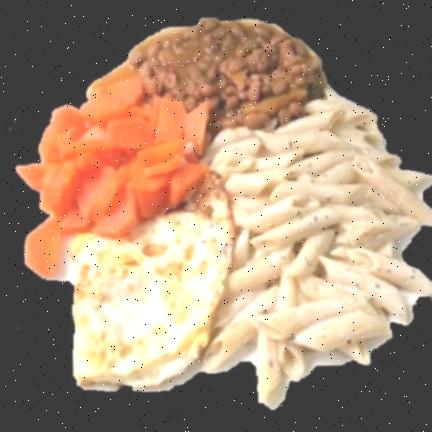beans: (124, 19, 325, 136)
carrot: (16, 76, 208, 277)
egg: (72, 172, 231, 386)
pasta: (204, 89, 432, 399)
